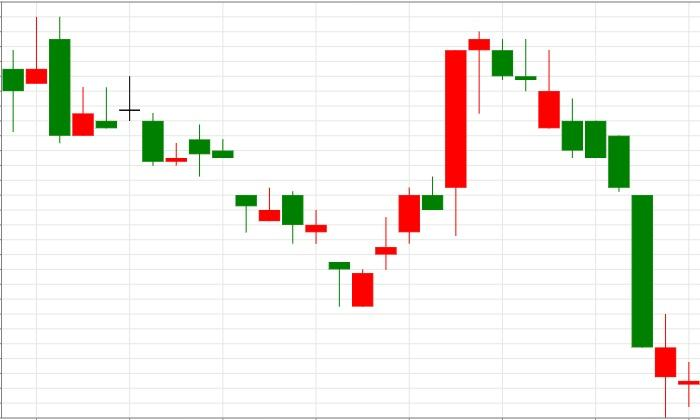evening_star_fall: (352, 31, 514, 307)
